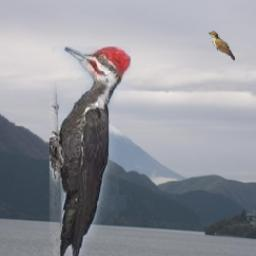Cuckoo: (208, 31, 235, 60)
Woodpecker: (51, 48, 132, 256)
